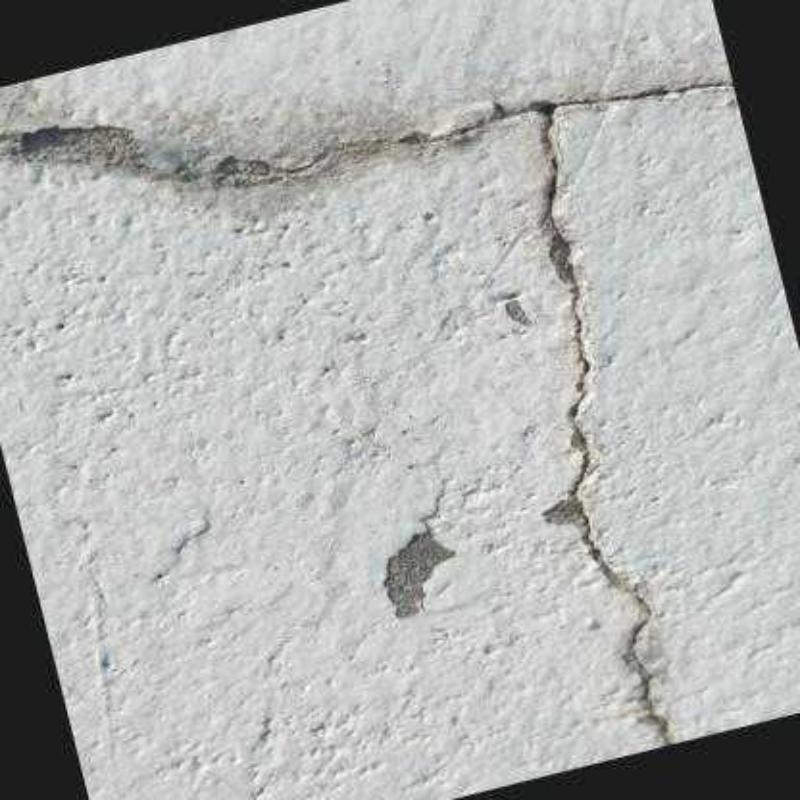pothole: (1, 79, 735, 745), (383, 481, 458, 617)
